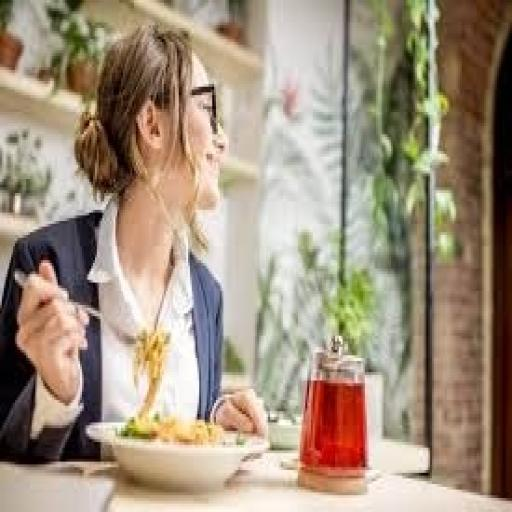eating: (0, 20, 270, 462)
